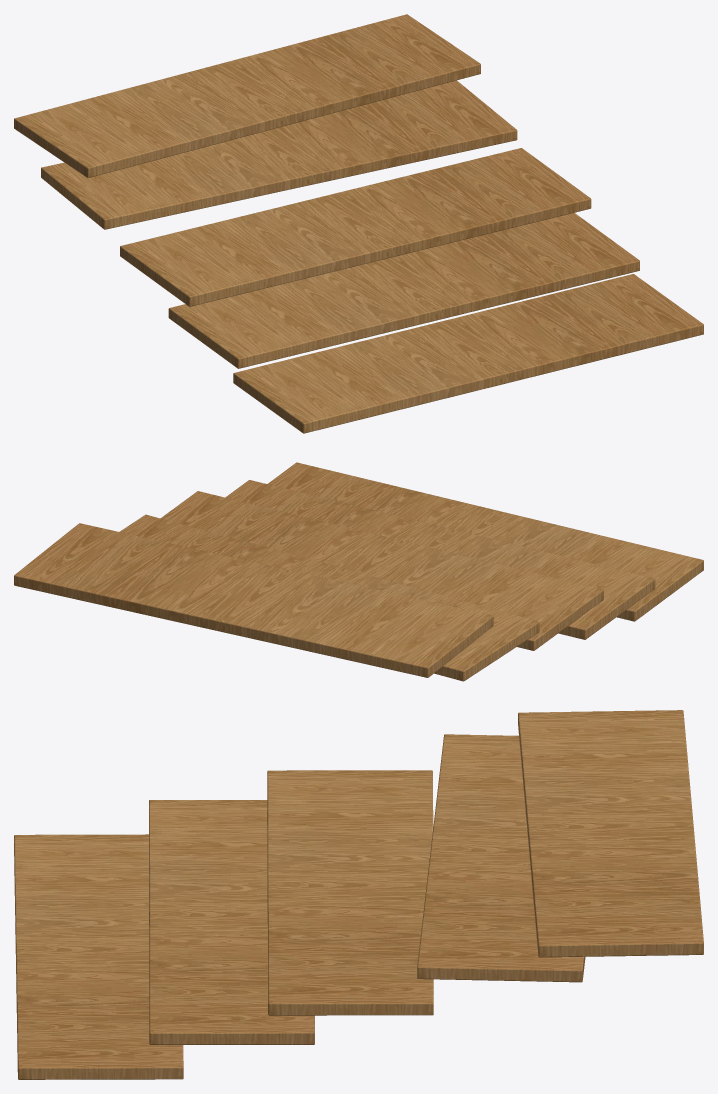
The model's file is EST-FOR-003_anim.glb.
3 renders of one model, top to bottom at view 1: azimuth 30°, elevation 25°; view 2: azimuth 150°, elevation 25°; view 3: azimuth 270°, elevation 25°, orthographic. The views are drawn at different scales.
Visible parts, largest first — view 1: EST-FOR-003_anim2, EST-FOR-003_anim0, EST-FOR-003_anim4, EST-FOR-003_anim1, EST-FOR-003_anim3; view 2: EST-FOR-003_anim4, EST-FOR-003_anim2, EST-FOR-003_anim0, EST-FOR-003_anim1, EST-FOR-003_anim3; view 3: EST-FOR-003_anim4, EST-FOR-003_anim2, EST-FOR-003_anim0, EST-FOR-003_anim1, EST-FOR-003_anim3.
Part boxes in pixels (x1=…): EST-FOR-003_anim2: x1=120, y1=148, x2=591, y2=306; EST-FOR-003_anim0: x1=233, y1=274, x2=703, y2=433; EST-FOR-003_anim4: x1=14, y1=14, x2=480, y2=177; EST-FOR-003_anim1: x1=168, y1=212, x2=639, y2=368; EST-FOR-003_anim3: x1=41, y1=80, x2=517, y2=229; EST-FOR-003_anim4: x1=14, y1=523, x2=493, y2=677; EST-FOR-003_anim2: x1=160, y1=491, x2=603, y2=650; EST-FOR-003_anim0: x1=267, y1=462, x2=703, y2=621; EST-FOR-003_anim1: x1=225, y1=480, x2=655, y2=639; EST-FOR-003_anim3: x1=119, y1=514, x2=539, y2=681; EST-FOR-003_anim4: x1=518, y1=710, x2=703, y2=957; EST-FOR-003_anim2: x1=267, y1=770, x2=433, y2=1015; EST-FOR-003_anim0: x1=14, y1=834, x2=183, y2=1079; EST-FOR-003_anim1: x1=149, y1=800, x2=314, y2=1044; EST-FOR-003_anim3: x1=417, y1=734, x2=585, y2=982.
Bounding box in the file's own units: 1.04 × 0.265 × 1.25.
1 material, 1 textured.
